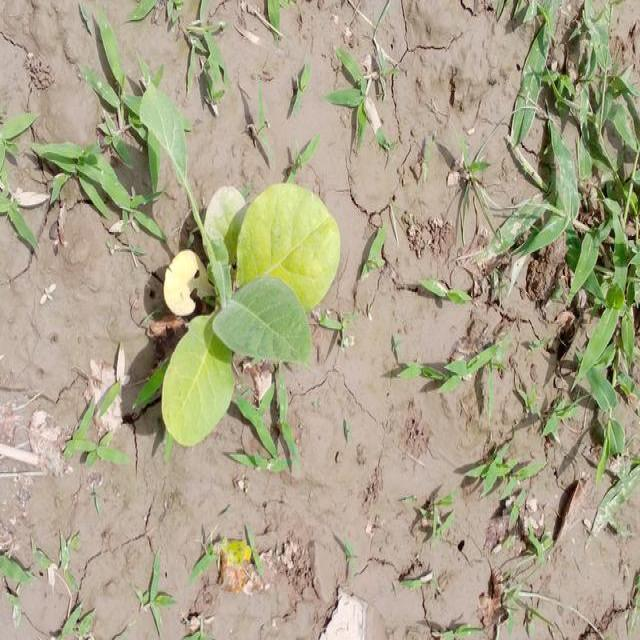crop: (144, 100, 338, 436)
